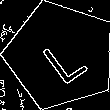L_NW: (32, 26, 89, 85)
